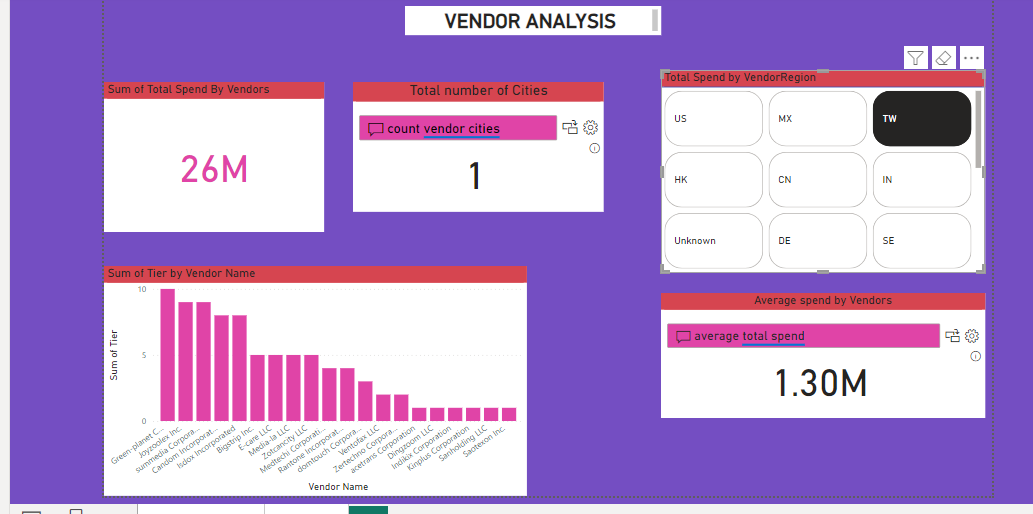

What the dashboard file says about the page in this screenshot:
{"tool":"powerbi","page":{"name":"Vendor Analysis","canvas":[1280,720],"ordinal":0},"visuals":[{"type":"card","title":"Sum of Total Spend By Vendors","fields":{"Values":["Sum(Sheet1.Total Spend)"]},"box":[0,123.8,316.8,216],"z":0},{"type":"columnChart","fields":{"Y":["Sum(Sheet1.Tier)"],"Category":["Sheet1.Vendor Name"]},"box":[0,388.8,609.1,331.2],"z":1000},{"type":"advancedSlicerVisual","title":"Total Spend by VendorRegion","fields":{"Values":["Sheet1.Vendor Country/Region"]},"box":[802.1,106.6,466.6,292.3],"z":2000},{"type":"textbox","box":[433.4,14.4,368.6,41.8],"z":3000},{"type":"qnaVisual","title":"Average spend by Vendors","box":[802.1,427.7,466.6,180],"z":4000},{"type":"qnaVisual","title":"Total number of Cities","box":[358.6,123.8,361.4,187.2],"z":4001}]}

Visuals, with their boxes on the page's 1280x720 design canvas (x1, y1, x2, y2). These are canvas units, not pixel positions in the 1033x514 screenshot, which may show the page scaled, cropped or inside an application window:
"Sum of Total Spend By Vendors" card: (0,124,317,340)
columnChart - Sum(Sheet1.Tier) x Sheet1.Vendor Name: (0,389,609,720)
"Total Spend by VendorRegion" advancedSlicerVisual: (802,107,1269,399)
textbox: (433,14,802,56)
"Average spend by Vendors" qnaVisual: (802,428,1269,608)
"Total number of Cities" qnaVisual: (359,124,720,311)
